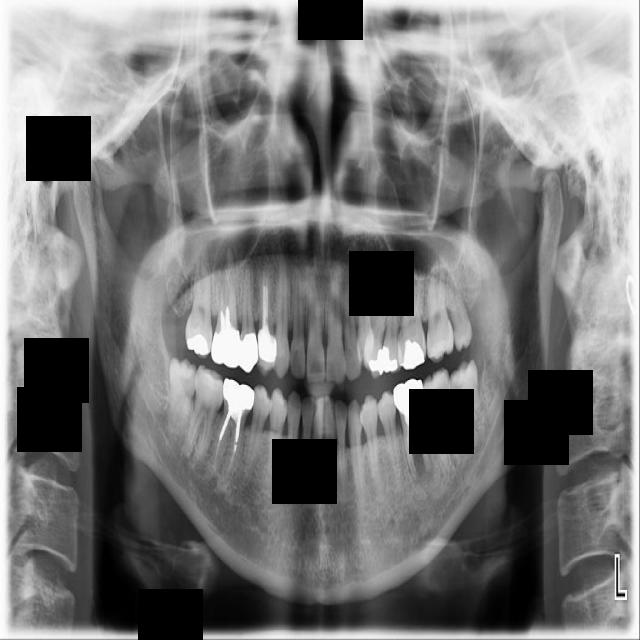52: (213, 377, 259, 424), (389, 375, 432, 420), (210, 317, 242, 370), (397, 323, 427, 370), (185, 312, 213, 359), (255, 326, 278, 376), (363, 329, 383, 378), (238, 327, 258, 374), (382, 334, 402, 373)
73: (204, 408, 251, 484), (398, 406, 433, 482), (214, 247, 238, 327), (254, 254, 275, 336), (610, 563, 618, 576)
BioHorizons Implant: (425, 248, 457, 364)
BioLife Implant: (444, 266, 475, 352)
Biomet 3i Implant: (444, 359, 491, 452)
Blue Sky Bio Implant: (416, 367, 464, 477)
Caries: (185, 236, 212, 359)
Implant: (183, 364, 228, 461)
Keystone Dental Implant: (167, 356, 199, 440)
